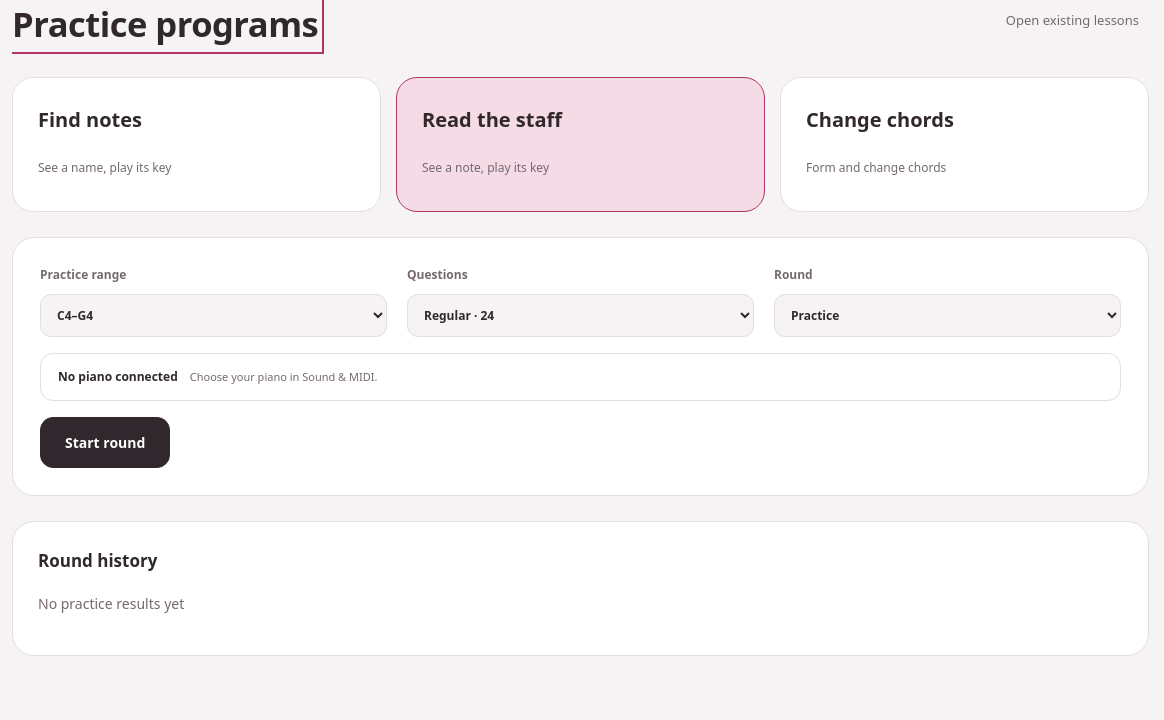
Test case: guided lesson experience › keeps every lesson available and describes completion without claiming mastery
This screenshot has width=1164, height=720.
Click the button "Open existing lessons" at point(1072, 20), box [996, 0, 1149, 40]
(page scrolled)
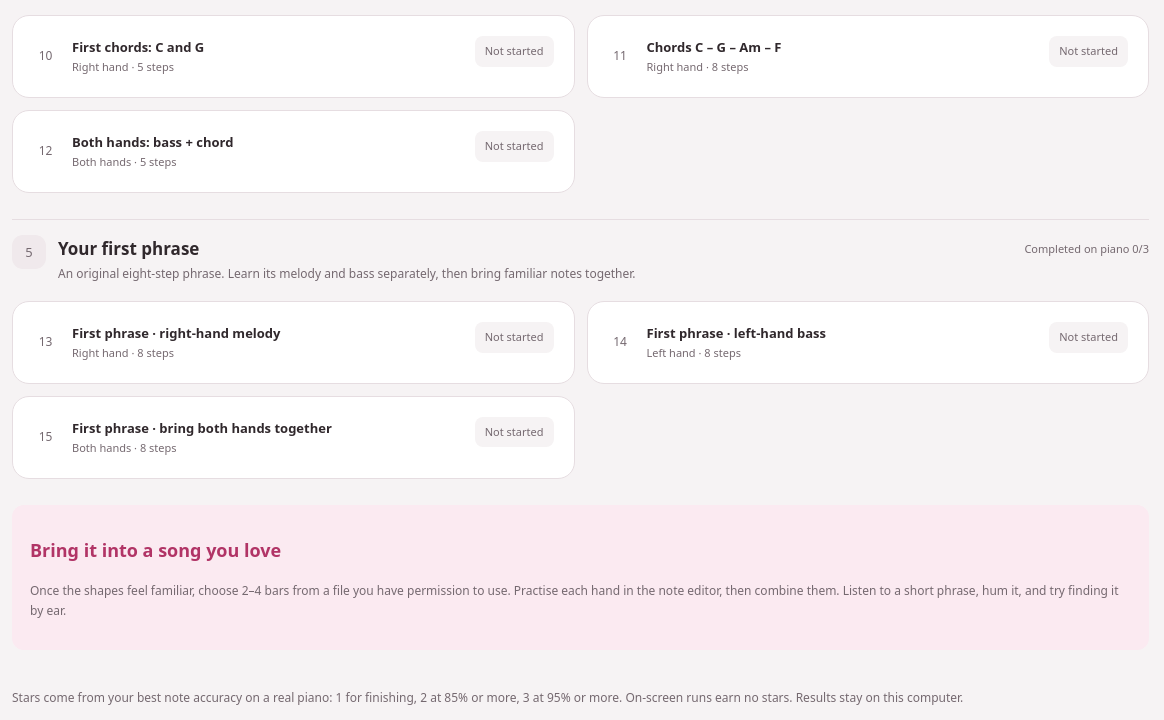
expect the button "10 First chords: C and G Right hand · 5 steps Not started" is enabled: met, box [12, 15, 574, 98]
expect the button "11 Chords C – G – Am – F Right hand · 8 steps Not started" is enabled: met, box [586, 15, 1149, 98]
expect the button "First phrase · right-hand melody" is enabled: met, box [12, 301, 574, 384]
